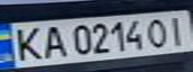0: (66, 21, 93, 56)
1: (106, 18, 127, 53)
2: (90, 19, 112, 55)
4: (124, 17, 148, 52)
A: (39, 22, 69, 60)
I: (163, 12, 193, 46)
K: (6, 24, 48, 62)
O: (142, 16, 172, 48)
